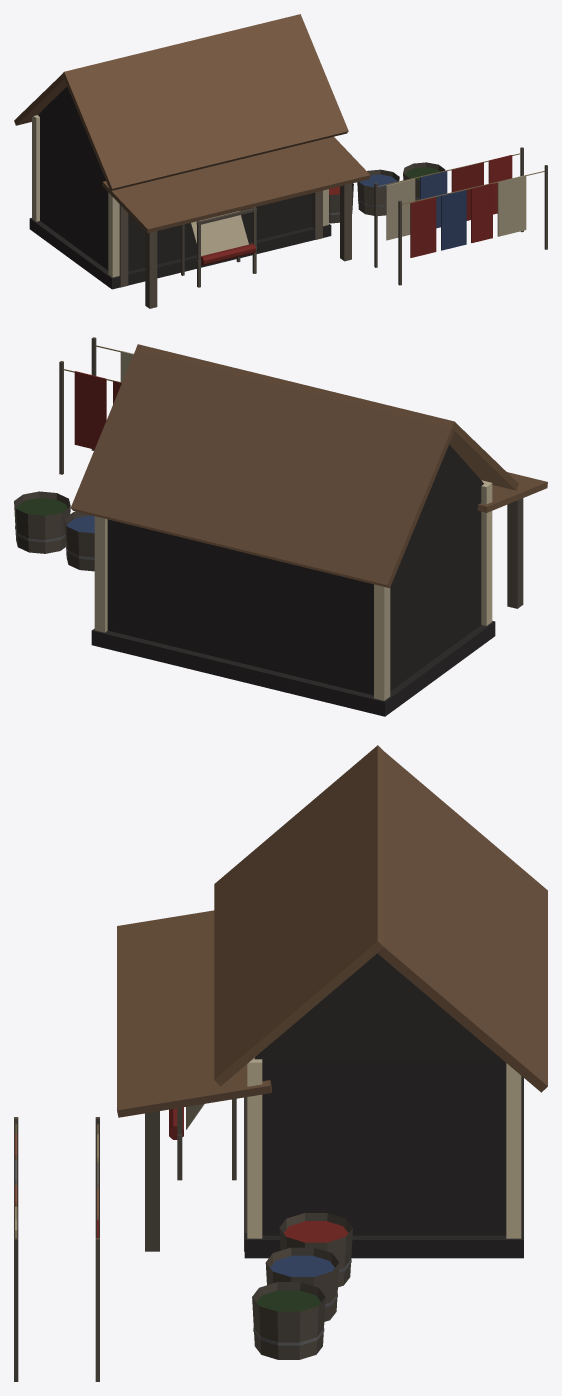
The model's file is walk_ashen_weaver.glb.
The picture shows the model from 3 angles, top to bottom: view 1: azimuth 30°, elevation 25°; view 2: azimuth 150°, elevation 25°; view 3: azimuth 270°, elevation 25°; orthographic projection. The views are drawn at different scales.
Parts seen in each view (by area): view 1: walk_ashen_weaver_roof, walk_ashen_weaver; view 2: walk_ashen_weaver, walk_ashen_weaver_roof; view 3: walk_ashen_weaver_roof, walk_ashen_weaver.
Part boxes in pixels (box(x1,y1,x2,y2)): walk_ashen_weaver_roof: box(14, 14, 370, 233); walk_ashen_weaver: box(29, 86, 547, 308); walk_ashen_weaver: box(14, 337, 523, 716); walk_ashen_weaver_roof: box(70, 344, 547, 588); walk_ashen_weaver_roof: box(117, 745, 547, 1117); walk_ashen_weaver: box(14, 953, 523, 1381).
Size of what is drawn, in the model's own units: 10.83 by 5.25 by 7.83.
2 materials, 2 textured.
